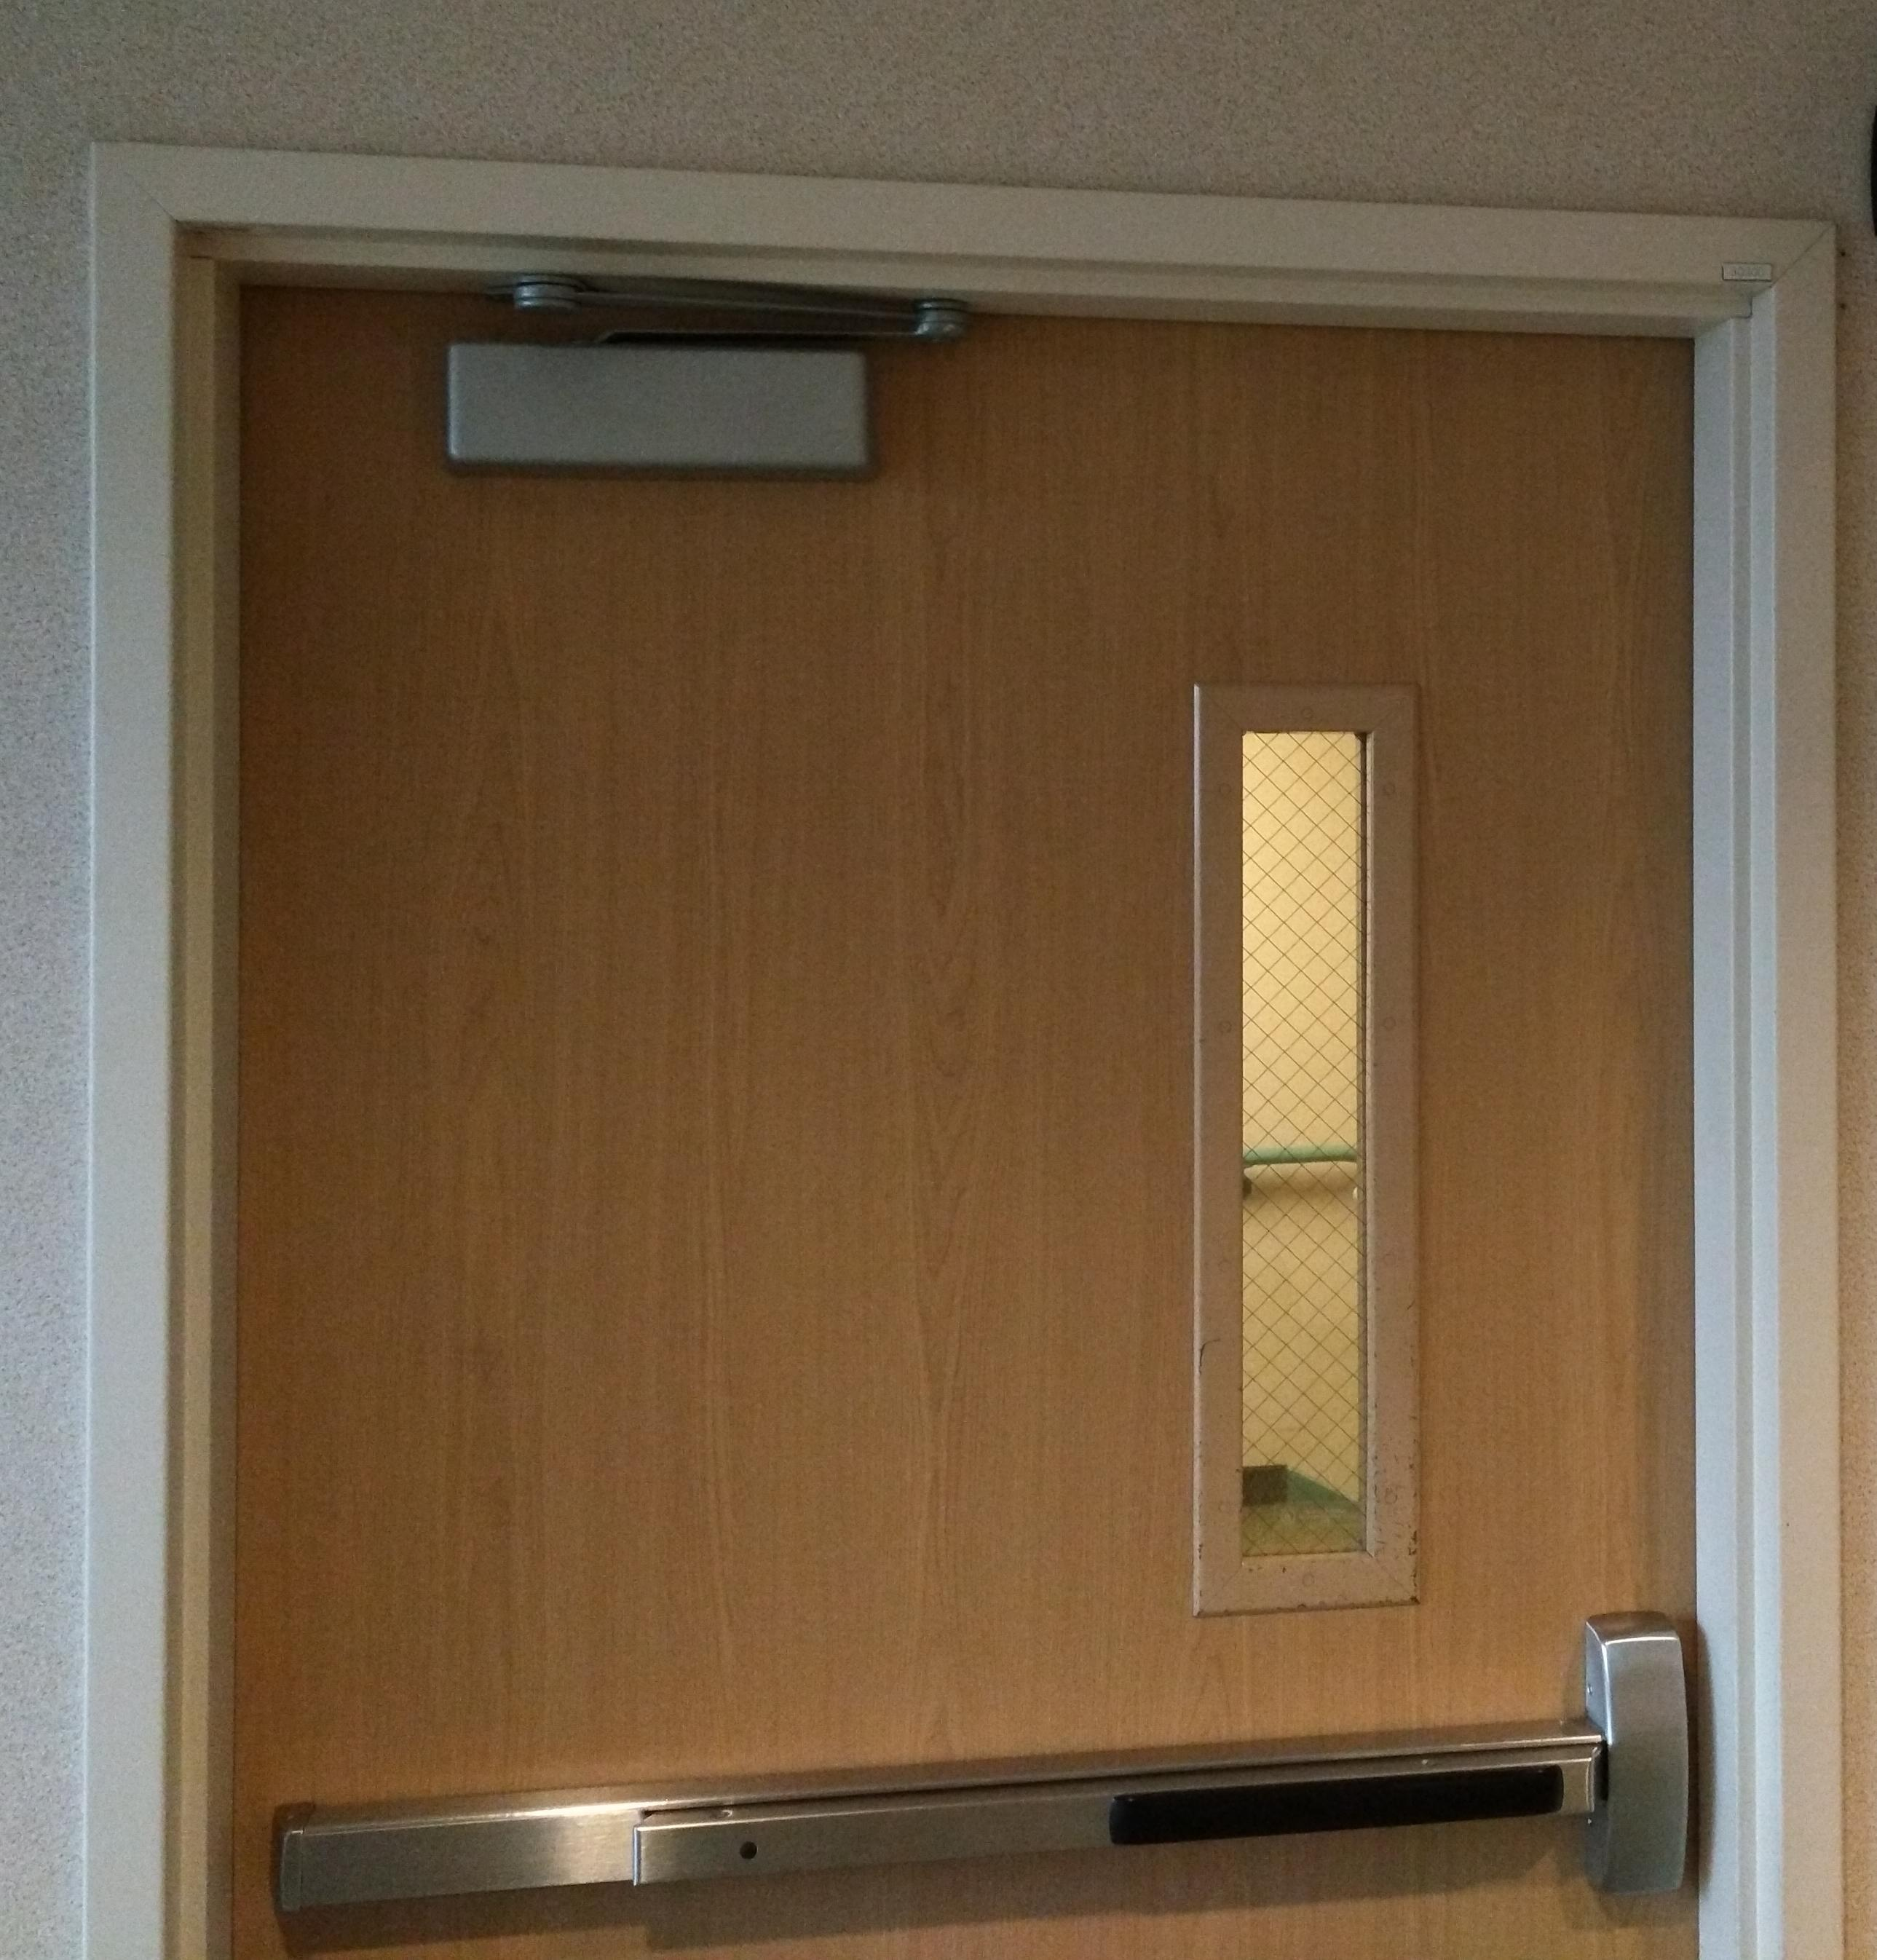door: (86, 143, 1847, 1956)
